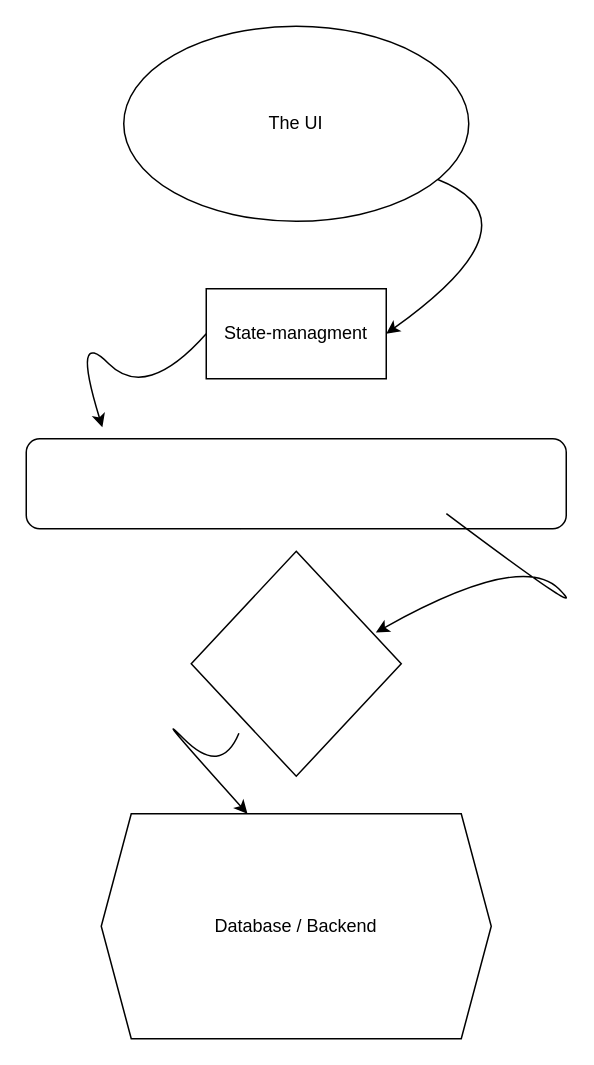
This 594x1065 diagram has some shape labels left out. The shapes that lost their labels are listed below. From the top down, each one's centre as x and y in pixels, then its label:
(295,483): Business Logic
(295,663): Services
